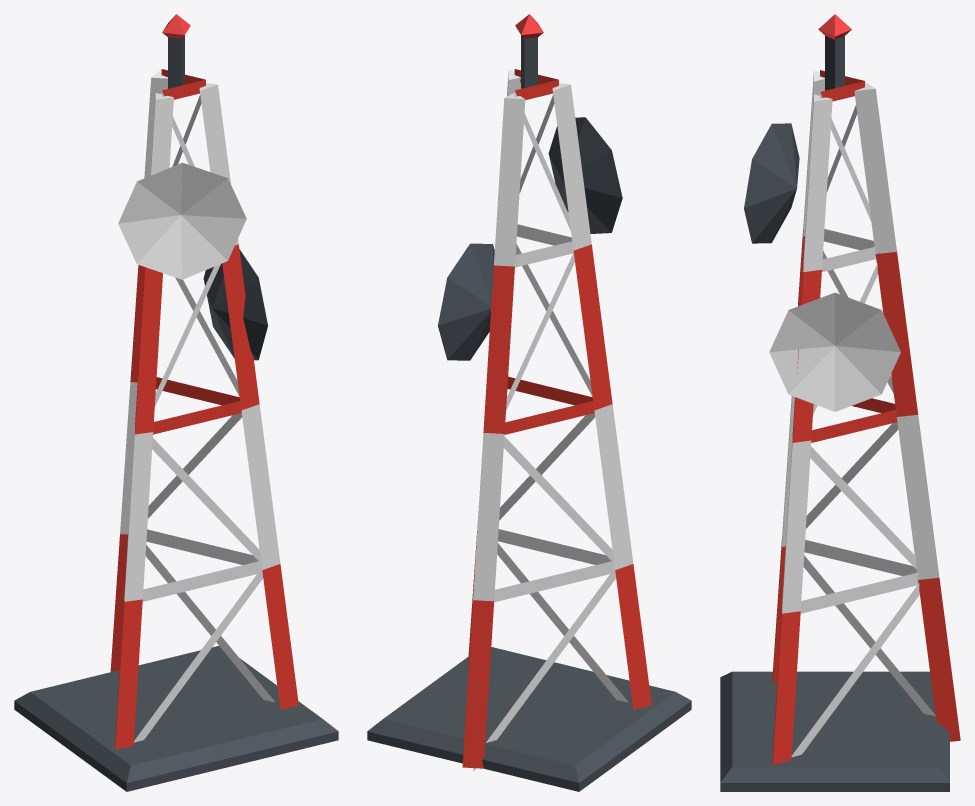
File: antenna.glb
3 renders of one model, left to right at view 1: azimuth 30°, elevation 25°; view 2: azimuth 150°, elevation 25°; view 3: azimuth 270°, elevation 25°, orthographic. The views are drawn at different scales.
Parts seen in each view (by area): view 1: antenna; view 2: antenna; view 3: antenna.
Part boxes in pixels (x1=…): antenna: x1=14, y1=14, x2=338, y2=791; antenna: x1=367, y1=14, x2=691, y2=791; antenna: x1=720, y1=14, x2=960, y2=791.
Bounding box in the file's own units: 0.25 × 0.808 × 0.2408.
